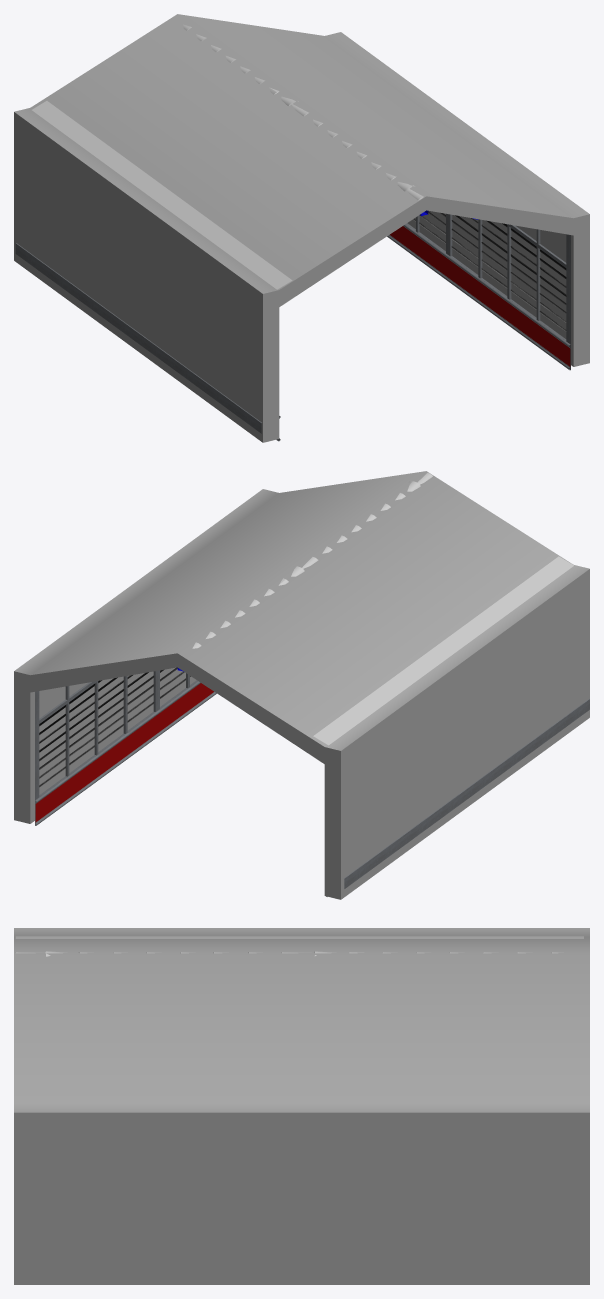
The model's file is M_md_RoofTop_8m_02.fbx.
The picture shows the model from 3 angles, top to bottom: view 1: azimuth 30°, elevation 25°; view 2: azimuth 150°, elevation 25°; view 3: azimuth 270°, elevation 25°; orthographic projection. The views are drawn at different scales.
Visible parts, largest first — view 1: M_md_RoofTop_8m_02_col, M_md_RoofTop_8m_02_Roof_LOD0, M_md_RoofTop_8m_02_dyn_LOD0, M_md_RoofTop_8m_02_LOD0, M_md_RoofTop_8m_02_glass_LOD0; view 2: M_md_RoofTop_8m_02_col, M_md_RoofTop_8m_02_Roof_LOD0, M_md_RoofTop_8m_02_dyn_LOD0, M_md_RoofTop_8m_02_LOD0, M_md_RoofTop_8m_02_glass_LOD0; view 3: M_md_RoofTop_8m_02_col, M_md_RoofTop_8m_02_Roof_LOD0.
Part boxes in pixels (left/top/right/bottom): M_md_RoofTop_8m_02_col: left=14, top=14, right=589, bottom=442; M_md_RoofTop_8m_02_Roof_LOD0: left=32, top=24, right=423, bottom=289; M_md_RoofTop_8m_02_dyn_LOD0: left=15, top=213, right=570, bottom=440; M_md_RoofTop_8m_02_LOD0: left=278, top=210, right=570, bottom=441; M_md_RoofTop_8m_02_glass_LOD0: left=413, top=211, right=566, bottom=331; M_md_RoofTop_8m_02_col: left=14, top=471, right=589, bottom=899; M_md_RoofTop_8m_02_Roof_LOD0: left=192, top=473, right=573, bottom=745; M_md_RoofTop_8m_02_dyn_LOD0: left=35, top=670, right=589, bottom=896; M_md_RoofTop_8m_02_LOD0: left=35, top=668, right=326, bottom=896; M_md_RoofTop_8m_02_glass_LOD0: left=39, top=667, right=190, bottom=787; M_md_RoofTop_8m_02_col: left=14, top=928, right=589, bottom=1284; M_md_RoofTop_8m_02_Roof_LOD0: left=15, top=936, right=583, bottom=956.
Size of what is drawn, in the model's own units: 616 by 377 by 811.
